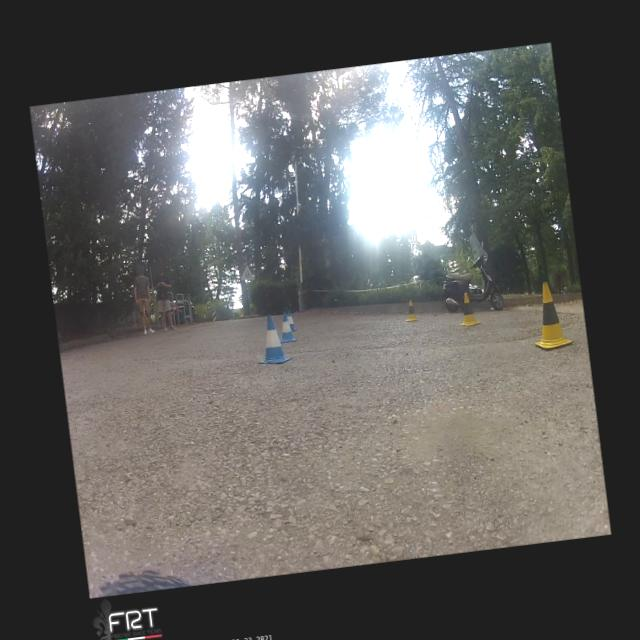blue_cone: (253, 312, 292, 366), (276, 310, 296, 342), (286, 309, 298, 331)
yellow_cone: (526, 279, 574, 350), (454, 290, 480, 326), (402, 299, 418, 322)
